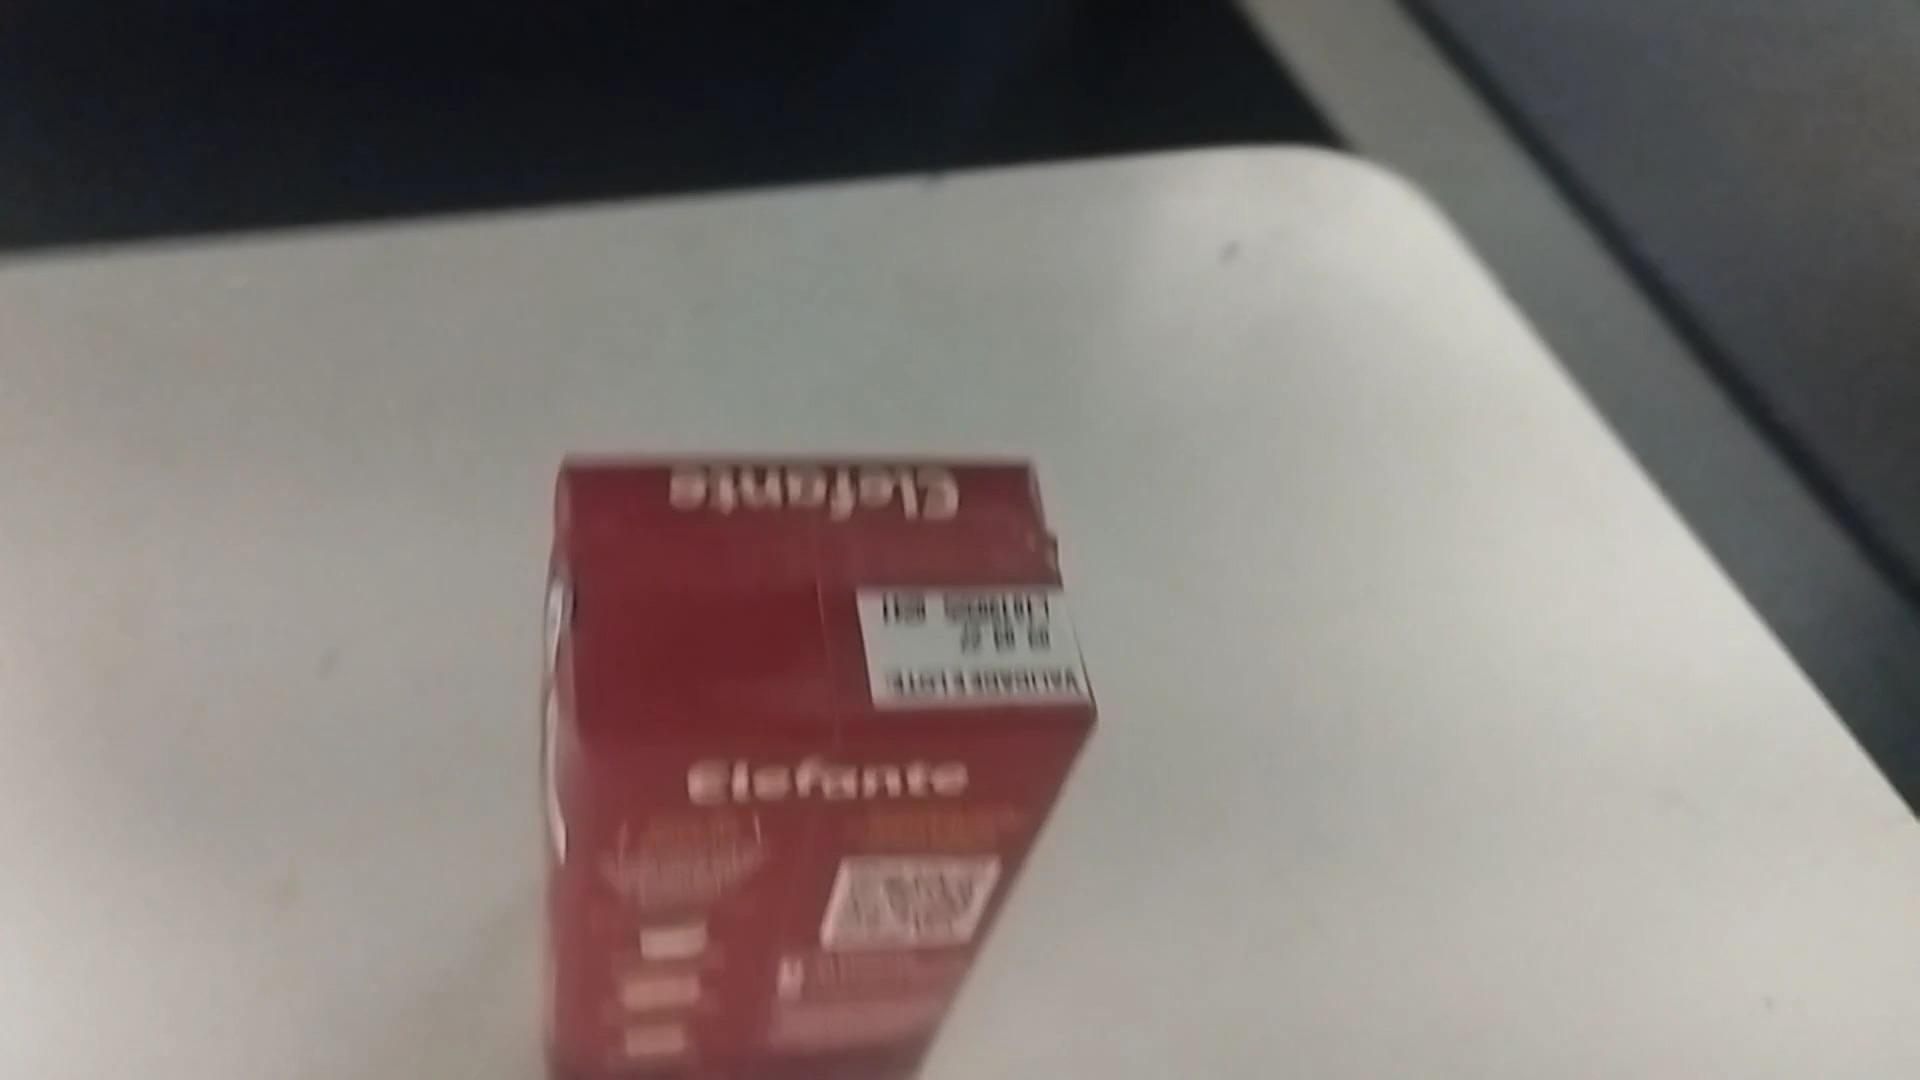tomate: (518, 442, 1138, 1072)
